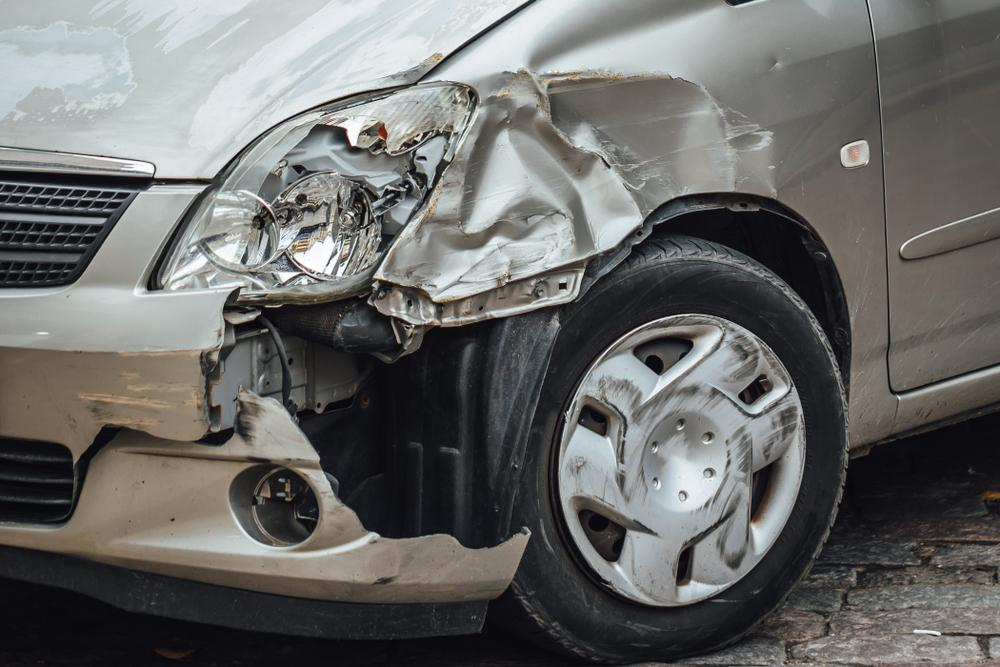crack: (75, 387, 245, 505)
dent: (378, 71, 776, 300), (766, 52, 785, 74)
lamp broken: (161, 85, 481, 294)
scratch: (582, 310, 808, 570), (65, 342, 208, 436)
